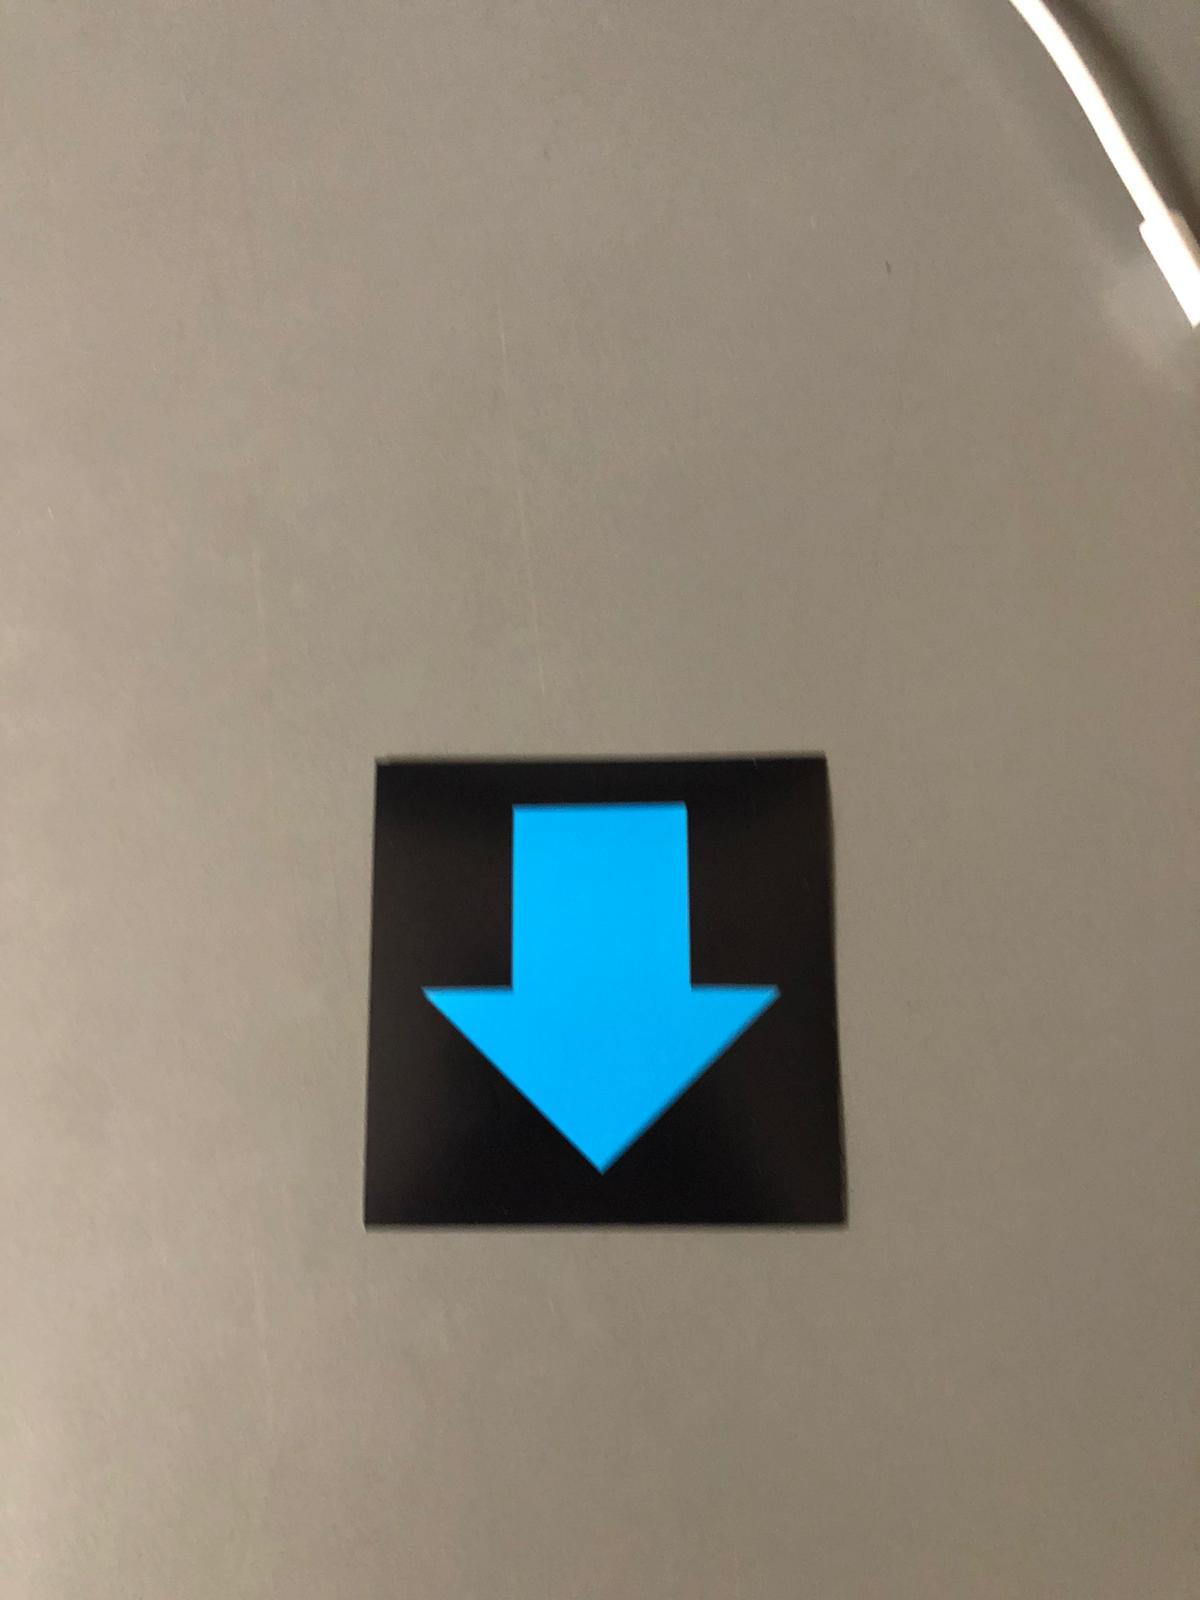Down Arrow: (326, 700, 896, 1298)
